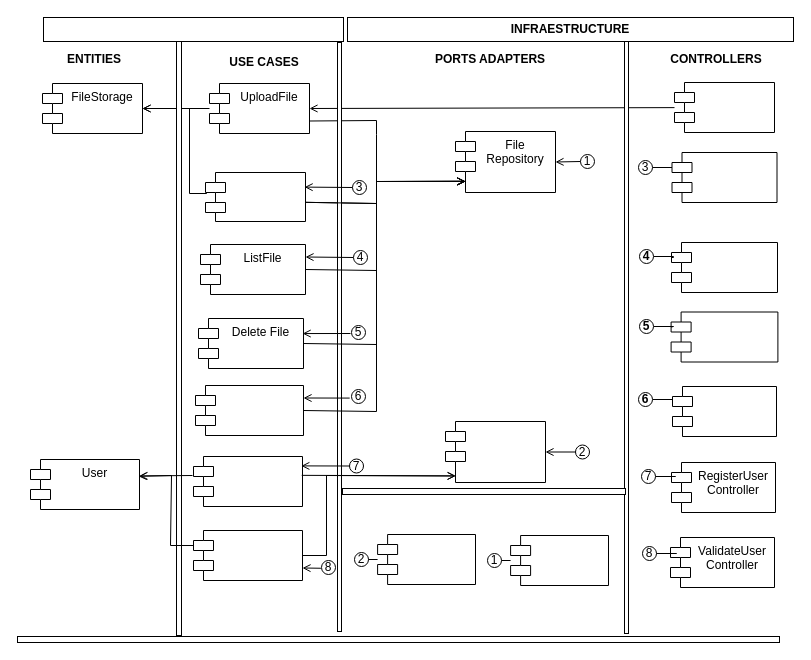
The diagram is 811 pixels wide and 660 high, and some of its shapes have lost their labels. Here are the shapes that lost their labels. From the top down, the box of each, then its label:
(42, 16, 344, 42): DOMAIN
(674, 82, 774, 132): UploadFile Controller
(204, 172, 306, 222): DownloadFile
(671, 152, 777, 202): DownloadFile Controller
(670, 242, 778, 292): ListFile Controller
(670, 311, 778, 362): DeleteFile Controller
(194, 384, 304, 436): PlayVideo
(672, 386, 776, 436): PlayVideo Controller
(444, 420, 546, 482): User Repository
(192, 456, 302, 506): Register User
(192, 530, 302, 580): Validate User
(377, 534, 476, 584): User Repository Impl
(510, 534, 608, 586): File Repository Impl
